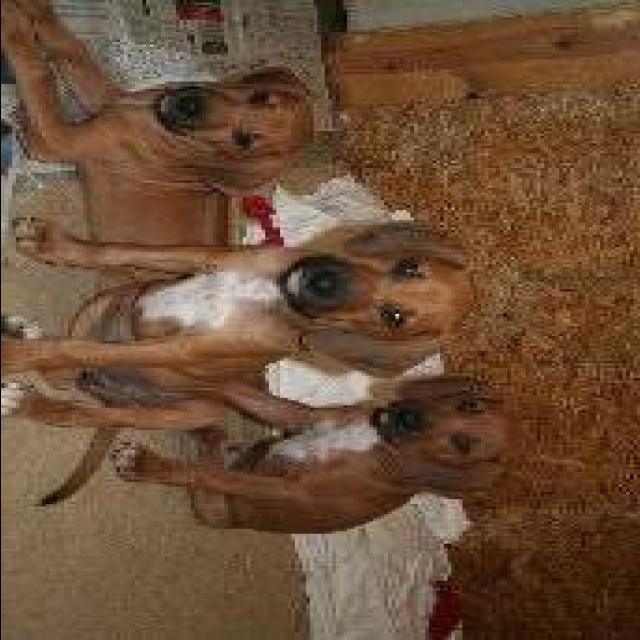dog: (0, 214, 489, 457)
